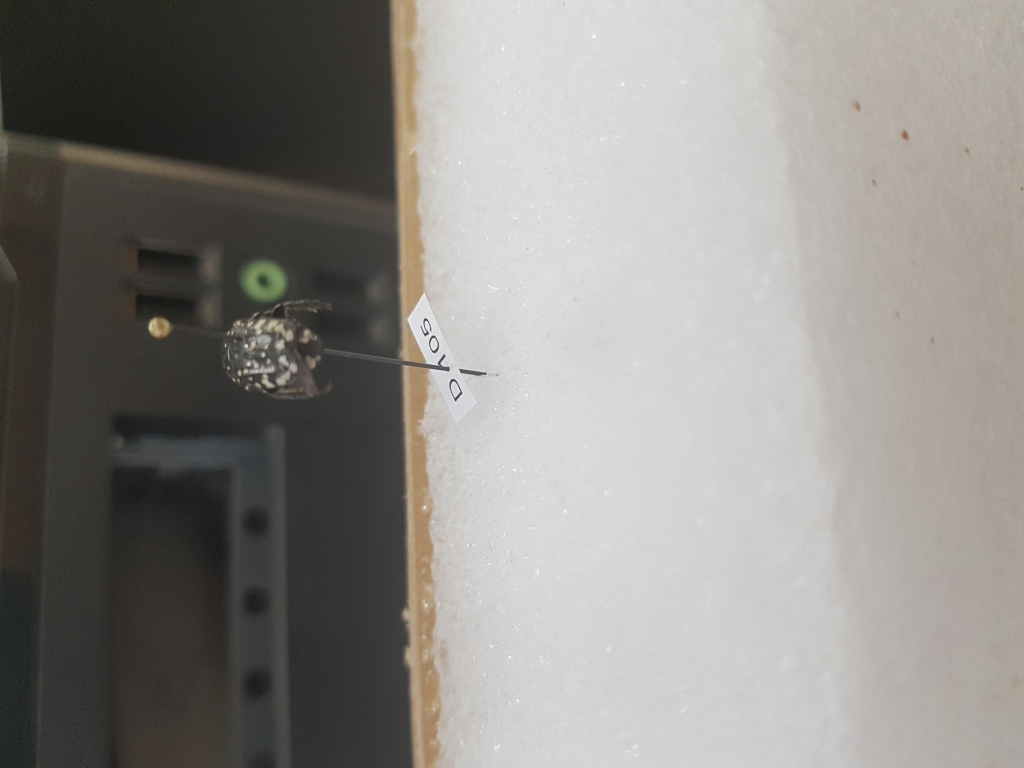Oxythyrea_cinctella: (220, 297, 343, 410)
